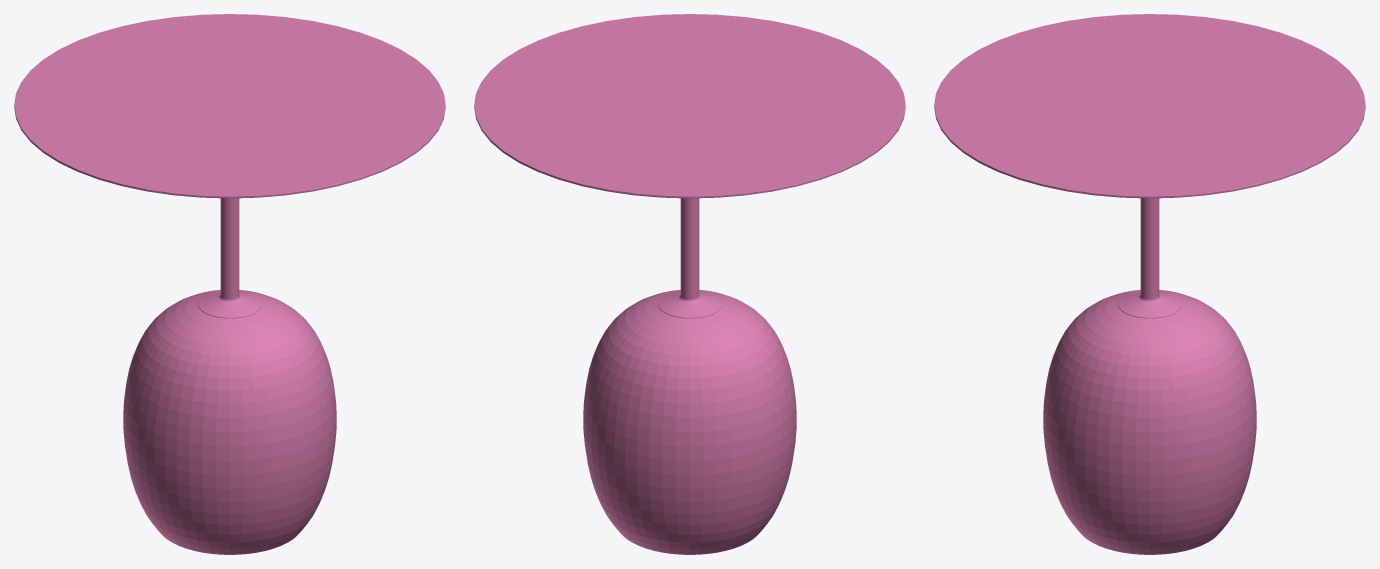
Rendered from P_cushion.fbx.
3 views of the same model, side by side, from view 1: azimuth 30°, elevation 25°; view 2: azimuth 150°, elevation 25°; view 3: azimuth 270°, elevation 25° (orthographic).
Visible parts, largest first — view 1: BeInspiration_69:Line007; view 2: BeInspiration_69:Line007; view 3: BeInspiration_69:Line007.
Part boxes in pixels (left/top/right/bottom): BeInspiration_69:Line007: left=14, top=14, right=445, bottom=554; BeInspiration_69:Line007: left=474, top=14, right=905, bottom=554; BeInspiration_69:Line007: left=934, top=14, right=1365, bottom=554.
Size of the model in its own units: 40.41 by 43.48 by 40.41.
